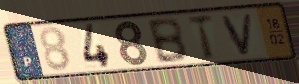4: (82, 22, 113, 70)
8: (113, 19, 150, 67), (38, 25, 74, 74)
B: (144, 15, 190, 65)
T: (185, 12, 217, 62)
V: (219, 11, 256, 58)
